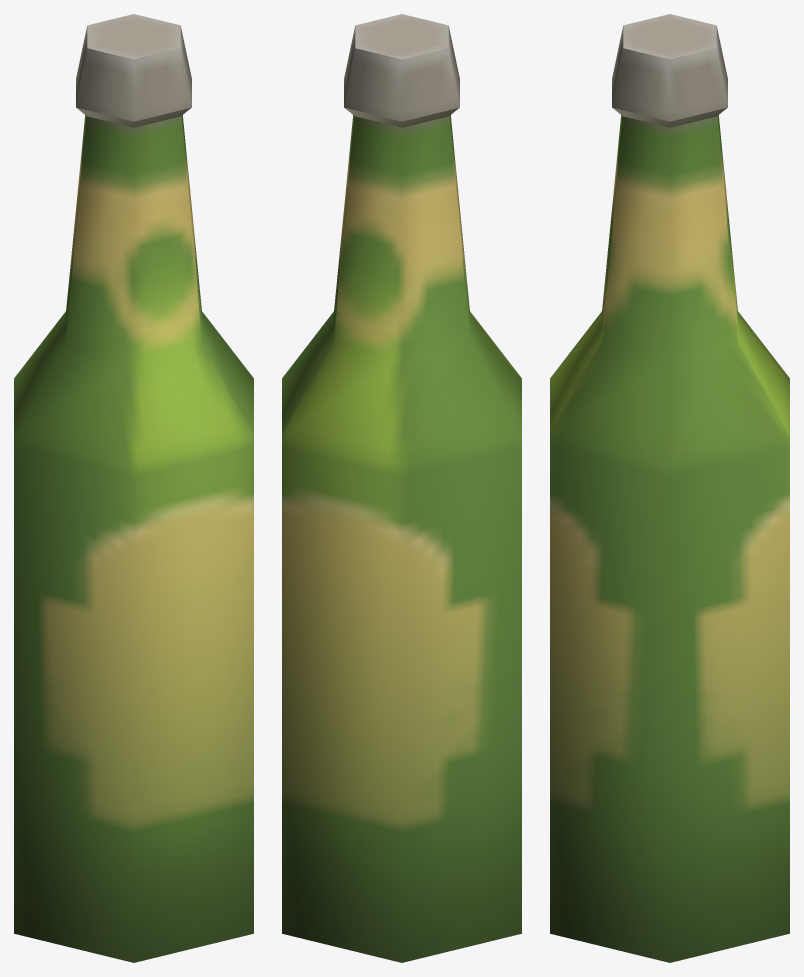
File: Bottle.FBX
3 views of the same model, side by side, from view 1: azimuth 30°, elevation 25°; view 2: azimuth 150°, elevation 25°; view 3: azimuth 270°, elevation 25° (orthographic).
Visible parts, largest first — view 1: Bottle; view 2: Bottle; view 3: Bottle.
Boxes of the visible parts, <box> form: Bottle: <box>14,14,253,962</box>; Bottle: <box>282,14,521,962</box>; Bottle: <box>550,14,789,962</box>.
Bounding box in the file's own units: 13.75 × 47.52 × 11.91.
